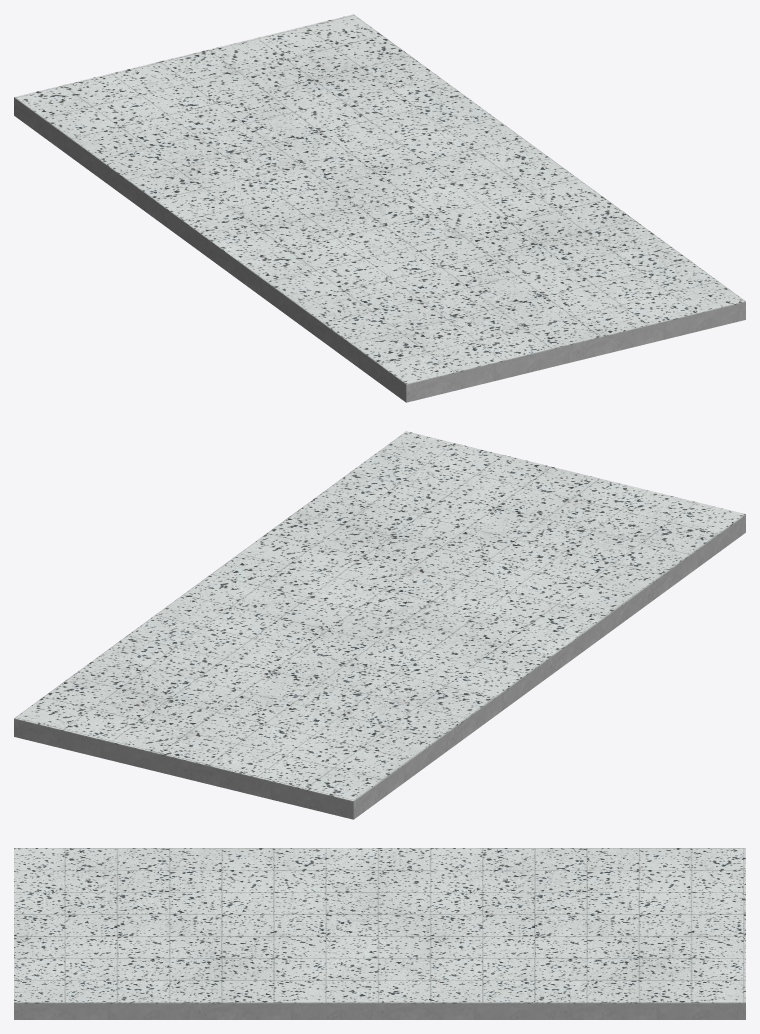
Rendered from VCT.gltf.
3 views of the same model, one above another, from view 1: azimuth 30°, elevation 25°; view 2: azimuth 150°, elevation 25°; view 3: azimuth 270°, elevation 25° (orthographic). The views are drawn at different scales.
Visible parts, largest first — view 1: VCT-RS Standard (×2), VCT-Concrete; view 2: VCT-RS Standard (×2), VCT-Concrete; view 3: VCT-RS Standard (×2), VCT-Concrete.
Part boxes in pixels (bbox=[...]): VCT-RS Standard (×2): bbox=[14, 14, 745, 384]; VCT-Concrete: bbox=[14, 98, 745, 402]; VCT-RS Standard (×2): bbox=[14, 431, 745, 801]; VCT-Concrete: bbox=[14, 515, 745, 819]; VCT-RS Standard (×2): bbox=[14, 848, 745, 1003]; VCT-Concrete: bbox=[14, 1003, 745, 1019].
Bounding box in the file's own units: 1 × 0.052 × 2.
Materials: 2 (2 with a texture image).
